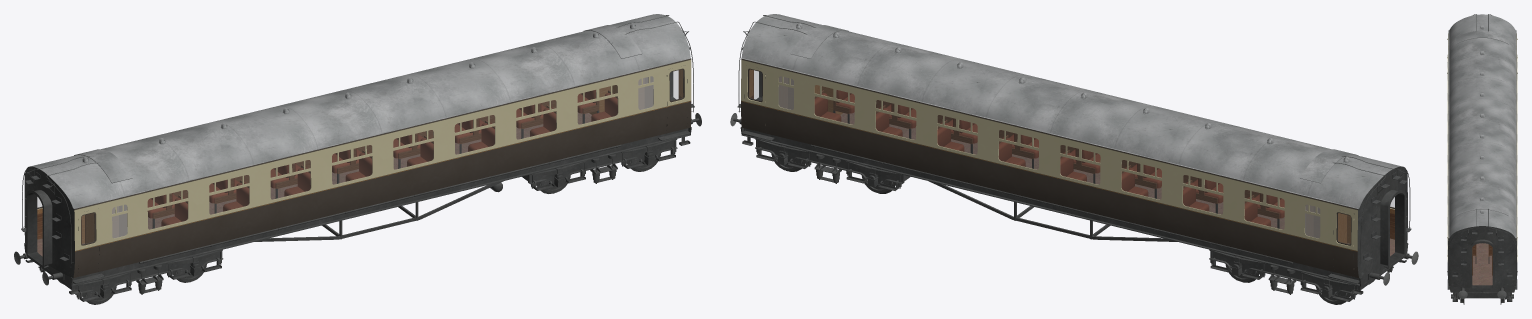
3 renders of one model, left to right at view 1: azimuth 30°, elevation 25°; view 2: azimuth 150°, elevation 25°; view 3: azimuth 270°, elevation 25°, orthographic. The views are drawn at different scales.
Visible parts, largest first — view 1: GWR_Coach_Exterior_0, GWR_Coach_Interior_10, GWR_Coach_Glass_9; view 2: GWR_Coach_Exterior_0, GWR_Coach_Interior_10, GWR_Coach_Glass_9; view 3: GWR_Coach_Exterior_0, GWR_Coach_Interior_10.
Part boxes in pixels (x1=…): GWR_Coach_Exterior_0: x1=14, y1=14, x2=701, y2=301; GWR_Coach_Interior_10: x1=28, y1=69, x2=687, y2=264; GWR_Coach_Glass_9: x1=37, y1=69, x2=682, y2=244; GWR_Coach_Exterior_0: x1=730, y1=14, x2=1418, y2=301; GWR_Coach_Interior_10: x1=744, y1=69, x2=1404, y2=266; GWR_Coach_Glass_9: x1=749, y1=69, x2=1394, y2=244; GWR_Coach_Exterior_0: x1=1447, y1=14, x2=1517, y2=301; GWR_Coach_Interior_10: x1=1472, y1=243, x2=1492, y2=288.
Size of the model in its own units: 19.42 by 3.9 by 2.61.
4 materials, 2 textured.
